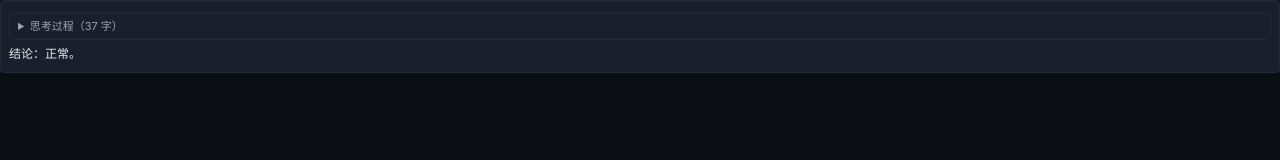
Scenario: 思考过程折叠块 › 默认收起（details 无 open），标题带字数；点开后展开内容
Expected: the text "思考过程（37 字）" is shown, 9,13 -> 1271,40
Click the heading "思考过程（37 字）": [76, 26] box 30,19 -> 123,33
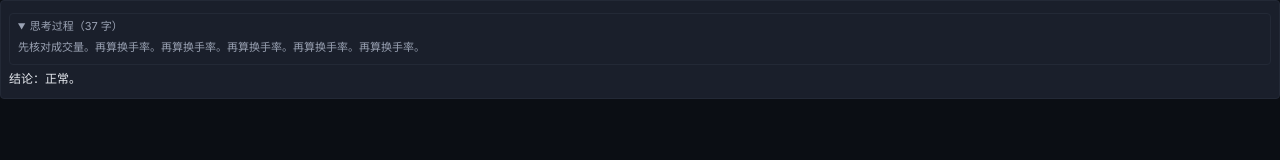
Now the text "思考过程（37 字） 先核对成交量。再算换手率。再算换手率。再算换手率。再算换手率。再算换手率。" is shown, box 9,13 -> 1271,65
